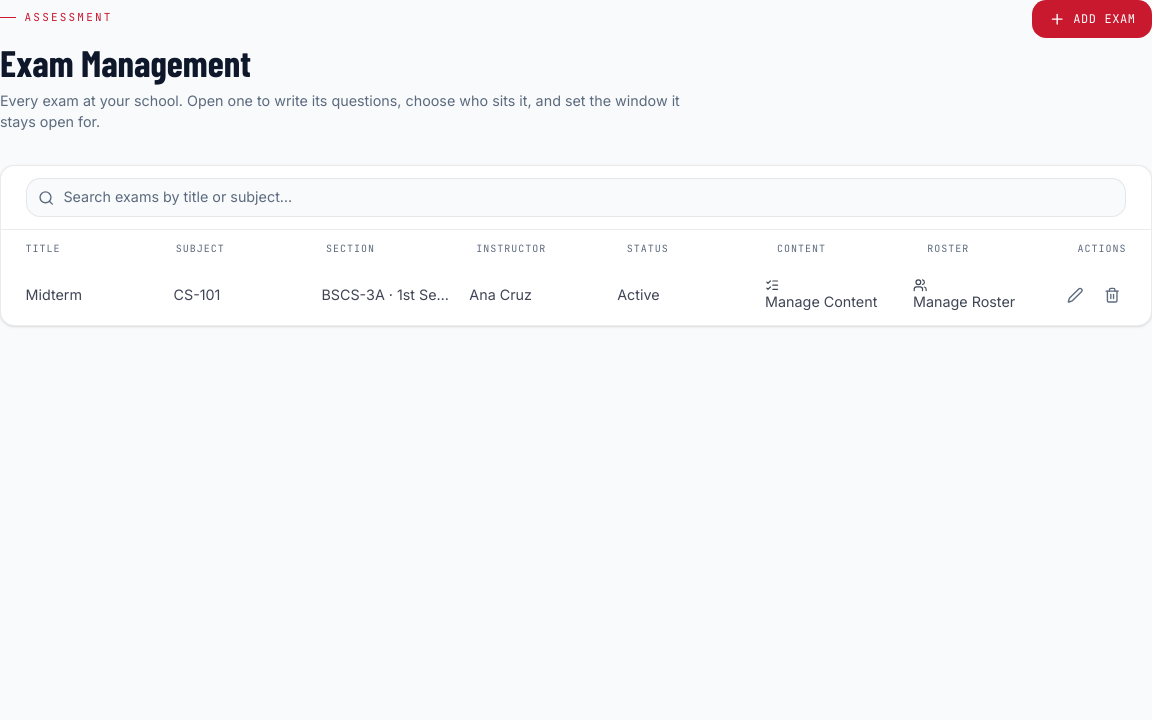
Test: Exams — a row answers what it is › opens the details, naming the class the exam belongs to
This screenshot has width=1152, height=720.
Click the text "Midterm" at (54,295), box [26,286,82,303]
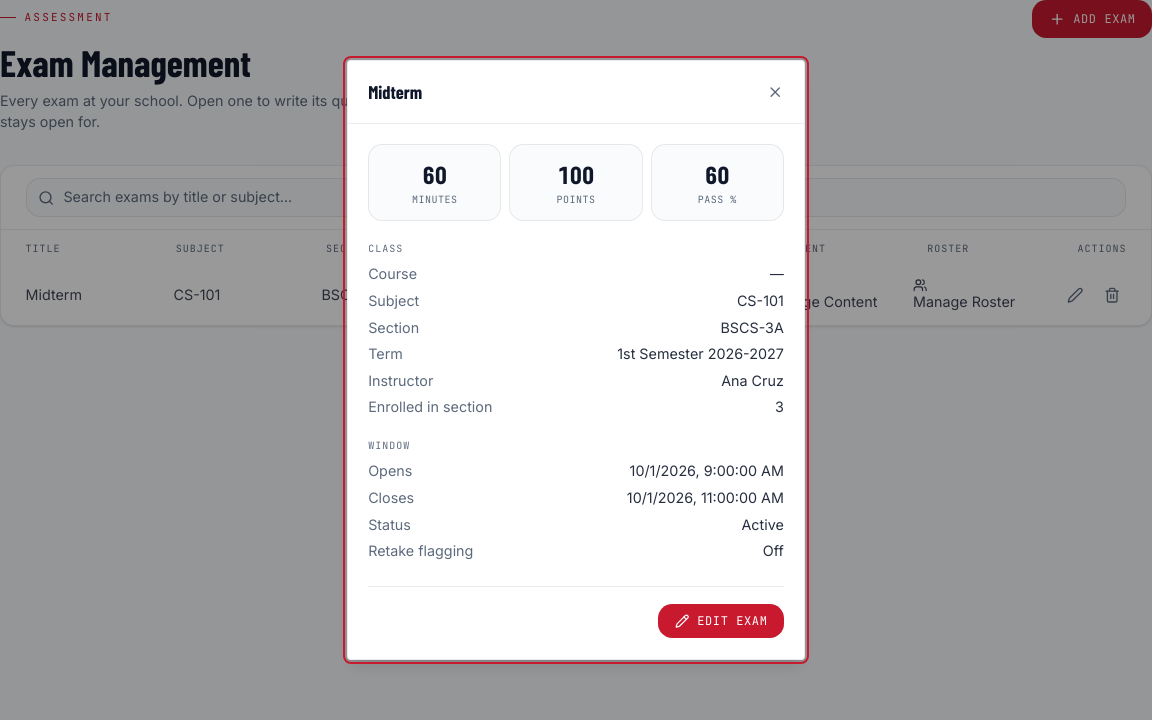
Result: the dialog shows "BSCS-3A" at [720,318,784,336]
Result: the dialog shows "1st Semester 2026-2027" at [617,345,784,362]
Result: the dialog shows "Ana Cruz" at [721,372,784,389]
